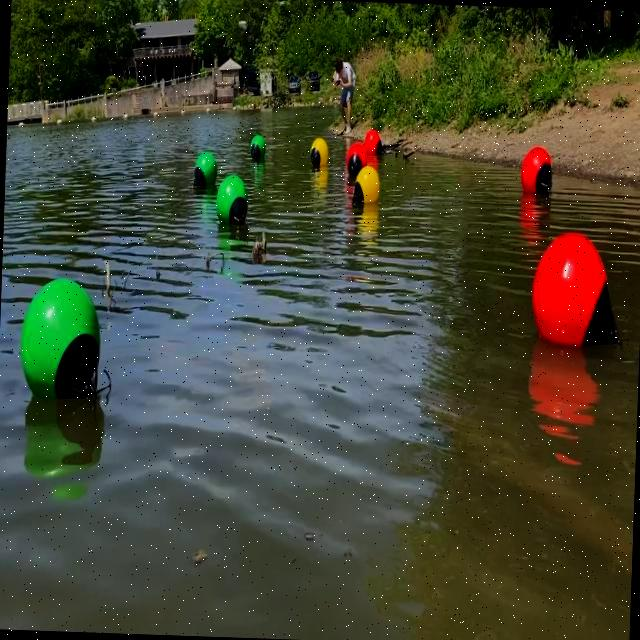buoy: (530, 230, 624, 350), (17, 276, 102, 400), (214, 173, 248, 227), (520, 144, 552, 196), (352, 164, 379, 206), (194, 149, 218, 187), (345, 141, 368, 178), (308, 136, 329, 167), (362, 126, 383, 156), (248, 132, 266, 160)
